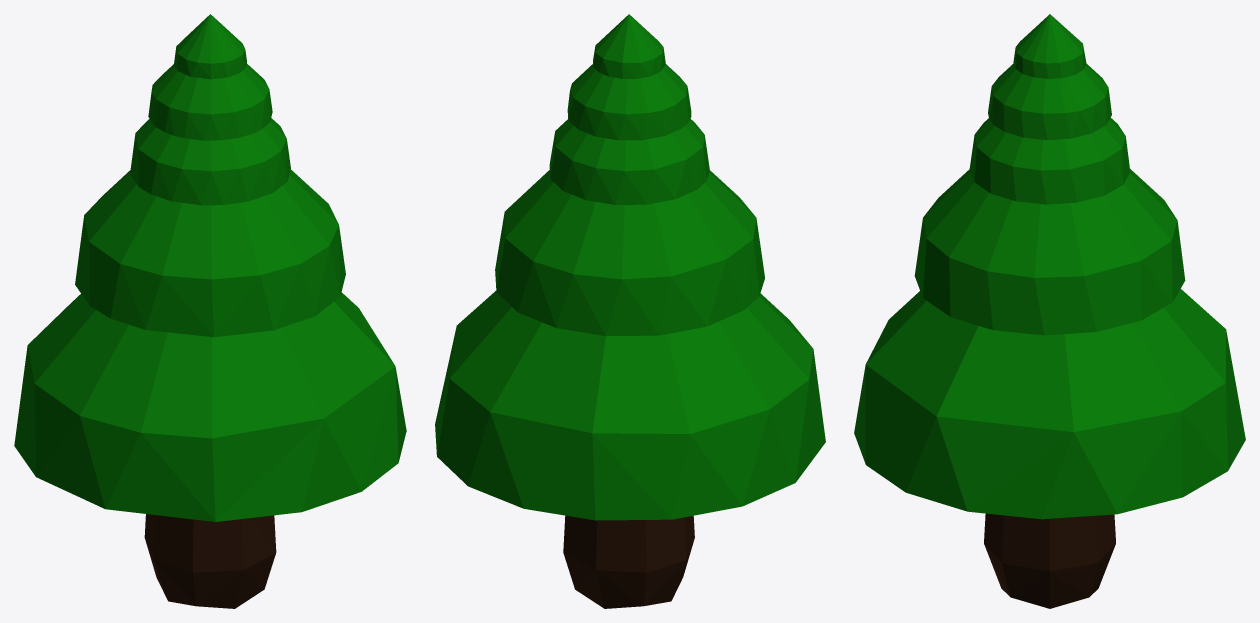
File: pine.dae
3 renders of one model, left to right at view 1: azimuth 30°, elevation 25°; view 2: azimuth 150°, elevation 25°; view 3: azimuth 270°, elevation 25°, orthographic.
Visible parts, largest first — view 1: Cone, Cone-001, Cone-002, Cube, Cone-003, Cone-004; view 2: Cone, Cone-001, Cone-002, Cube, Cone-003, Cone-004; view 3: Cone, Cone-001, Cone-002, Cube, Cone-003, Cone-004.
Part boxes in pixels (<box>): Cone: <box>14,292,406,521</box>; Cone-001: <box>75,169,345,337</box>; Cone-002: <box>130,118,290,205</box>; Cube: <box>144,514,276,608</box>; Cone-003: <box>148,64,272,140</box>; Cone-004: <box>174,14,246,79</box>; Cone: <box>435,291,825,520</box>; Cone-001: <box>495,170,764,336</box>; Cone-002: <box>549,119,709,204</box>; Cube: <box>563,515,694,608</box>; Cone-003: <box>567,64,691,140</box>; Cone-004: <box>593,14,665,78</box>; Cone: <box>854,289,1245,519</box>; Cone-001: <box>914,169,1185,335</box>; Cone-002: <box>969,117,1130,204</box>; Cube: <box>984,513,1115,608</box>; Cone-003: <box>988,64,1111,140</box>; Cone-004: <box>1013,14,1086,78</box>.
Size of the model in its own units: 3 by 4.99 by 3.
